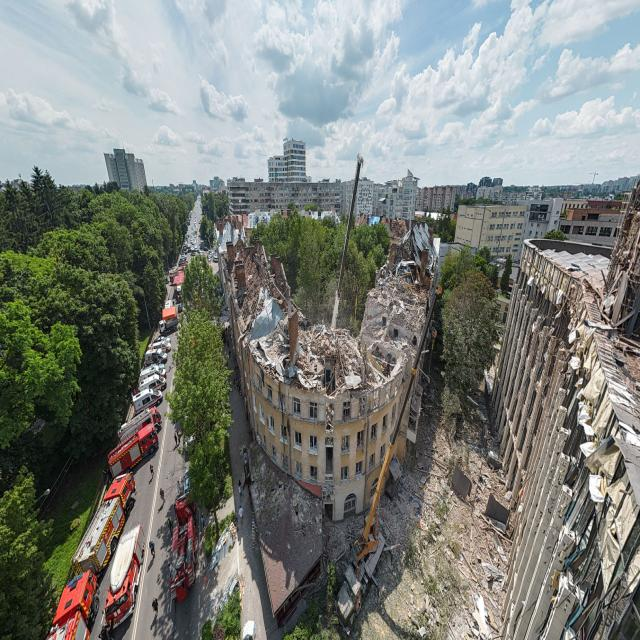building: (217, 216, 438, 523), (103, 146, 147, 193)
